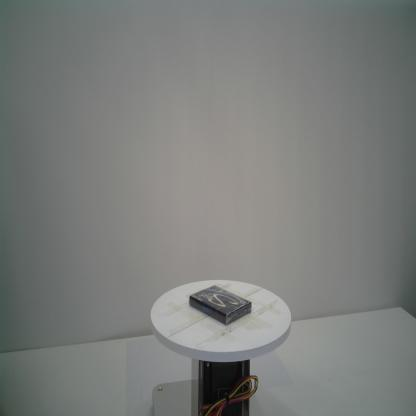Gum: (186, 282, 254, 326)
